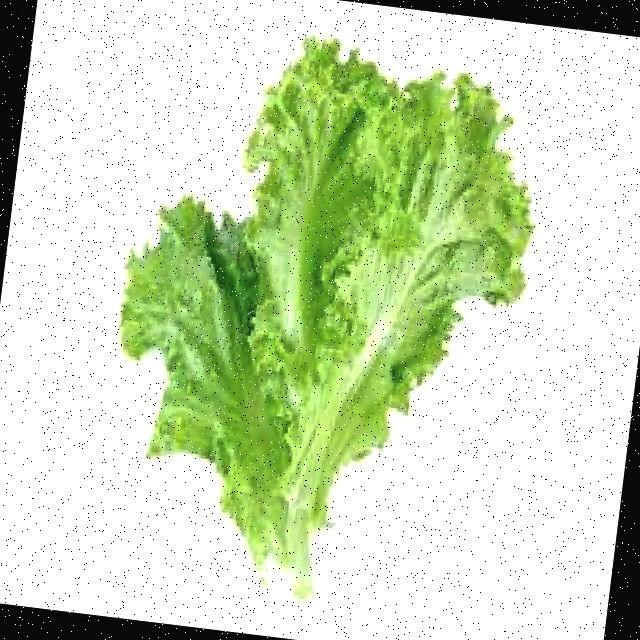healthy: (175, 92, 458, 498)
